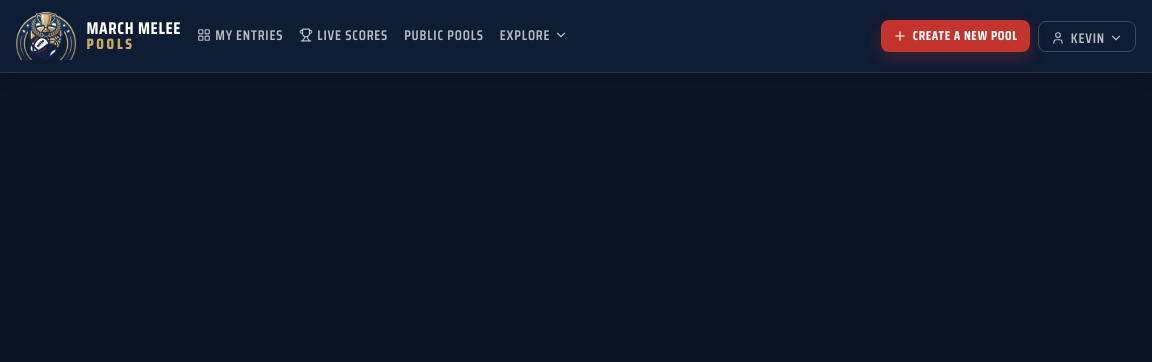
it: grouped header nav — nothing became unreachable › the account menu carries stats, profile, theme and log out
This screenshot has width=1152, height=362.
Expected: the link "My Stats" is not shown
Click the button with aria-label "Account menu": (1087,36) x1=1038 y1=20 x2=1136 y2=52
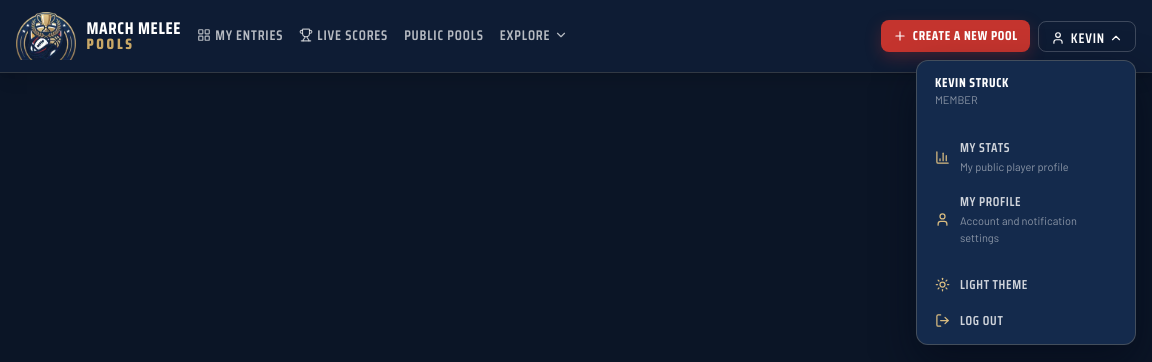
Expected: the button "Light Theme" is shown, x1=923 y1=267 x2=1129 y2=302
Expected: the button "Log Out" is shown, x1=923 y1=302 x2=1129 y2=338
